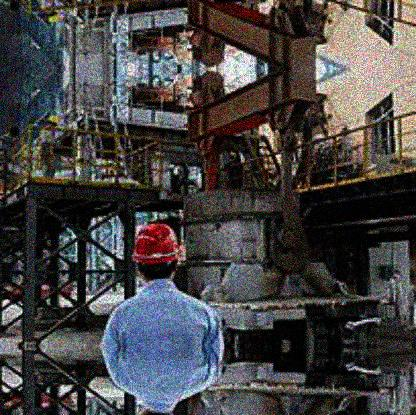helmet: (130, 222, 181, 282)
